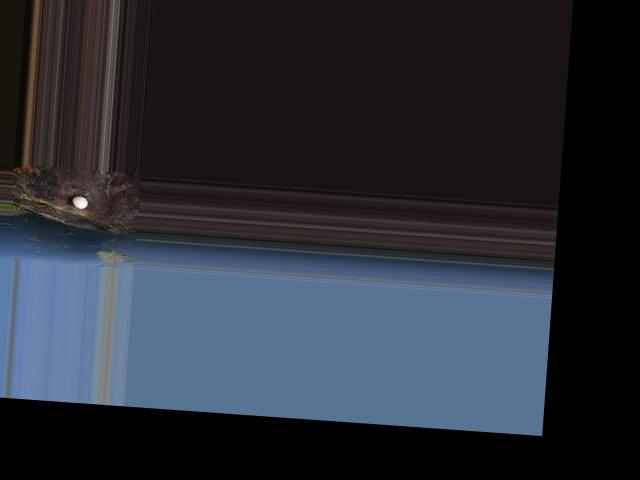egg: (72, 195, 89, 209)
